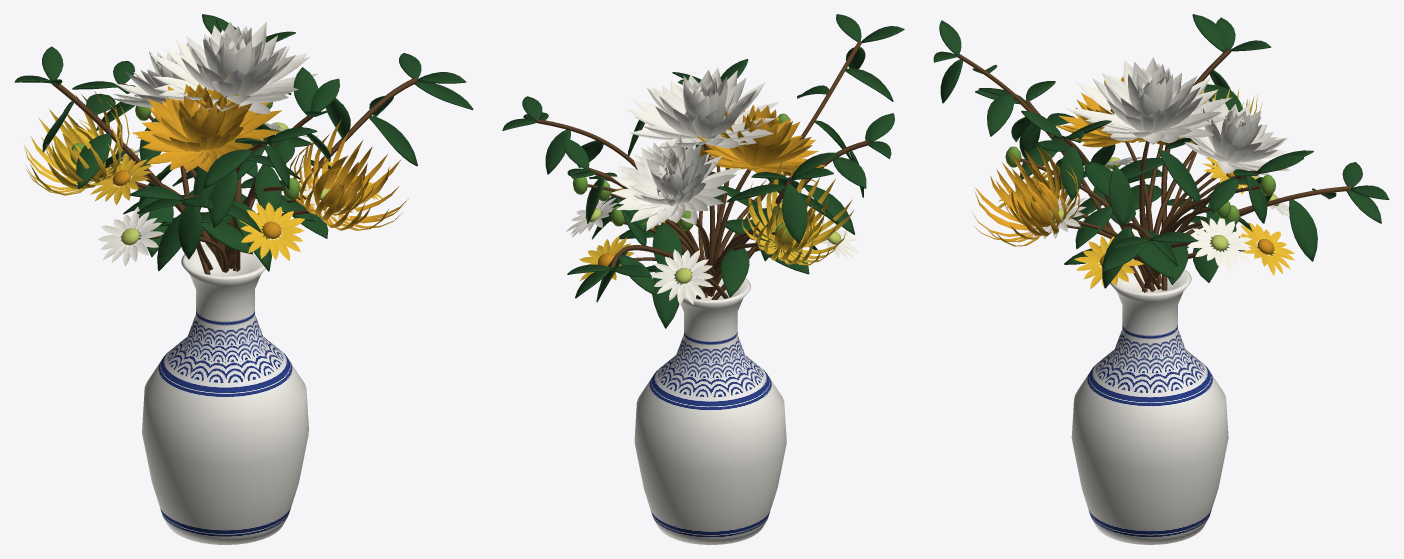
File: shrinevase0.glb
3 views of the same model, side by side, from view 1: azimuth 30°, elevation 25°; view 2: azimuth 150°, elevation 25°; view 3: azimuth 270°, elevation 25° (orthographic). The views are drawn at different scales.
Parts seen in each view (by area): view 1: VaseBody, VaseLeaves, VaseMumBall0, VaseMumBall1, VaseMumSpider0, VaseMumSpider1, VaseStems, VaseMumSmall4, VaseMumSmall7, VaseMumBall2, VaseMumSmall2; view 2: VaseBody, VaseLeaves, VaseMumBall0, VaseMumBall2, VaseMumBall1, VaseMumSpider1, VaseStems, VaseMumSmall5, VaseMumSmall8, VaseMumSmall3, VaseMumSmall7; view 3: VaseBody, VaseLeaves, VaseMumBall0, VaseMumSpider0, VaseMumBall2, VaseStems, VaseMumSmall3, VaseMumBall1, VaseMumSmall8, VaseMumSmall6, VaseMumSmall1.
Part boxes in pixels (x1,y1,x2,y2): VaseBody: (142, 244, 308, 544); VaseLeaves: (14, 14, 473, 271); VaseMumBall0: (150, 21, 317, 114); VaseMumBall1: (132, 77, 281, 172); VaseMumSpider0: (289, 118, 408, 230); VaseMumSpider1: (24, 90, 129, 195); VaseStems: (52, 77, 417, 274); VaseMumSmall4: (238, 202, 304, 260); VaseMumSmall7: (97, 206, 163, 266); VaseMumBall2: (113, 42, 188, 107); VaseMumSmall2: (90, 153, 152, 205); VaseBody: (634, 275, 786, 544); VaseLeaves: (502, 14, 904, 328); VaseMumBall0: (626, 67, 779, 149); VaseMumBall2: (611, 135, 740, 230); VaseMumBall1: (697, 104, 826, 175); VaseMumSpider1: (741, 161, 853, 265); VaseStems: (537, 41, 868, 299); VaseMumSmall5: (651, 249, 713, 304); VaseMumSmall8: (579, 235, 634, 280); VaseMumSmall3: (566, 197, 617, 237); VaseMumSmall7: (816, 216, 859, 260); VaseBody: (1071, 265, 1228, 544); VaseLeaves: (933, 14, 1389, 288); VaseMumBall0: (1064, 57, 1232, 144); VaseMumSpider0: (973, 145, 1079, 246); VaseMumBall2: (1179, 97, 1290, 177); VaseStems: (957, 48, 1350, 292); VaseMumSmall3: (1187, 218, 1251, 273); VaseMumBall1: (1055, 76, 1143, 147); VaseMumSmall8: (1240, 222, 1294, 275); VaseMumSmall6: (1074, 236, 1143, 289); VaseMumSmall1: (1026, 196, 1086, 239).
Bounding box in the file's own units: 0.1858 × 0.2179 × 0.1976.
9 materials, 1 textured.
